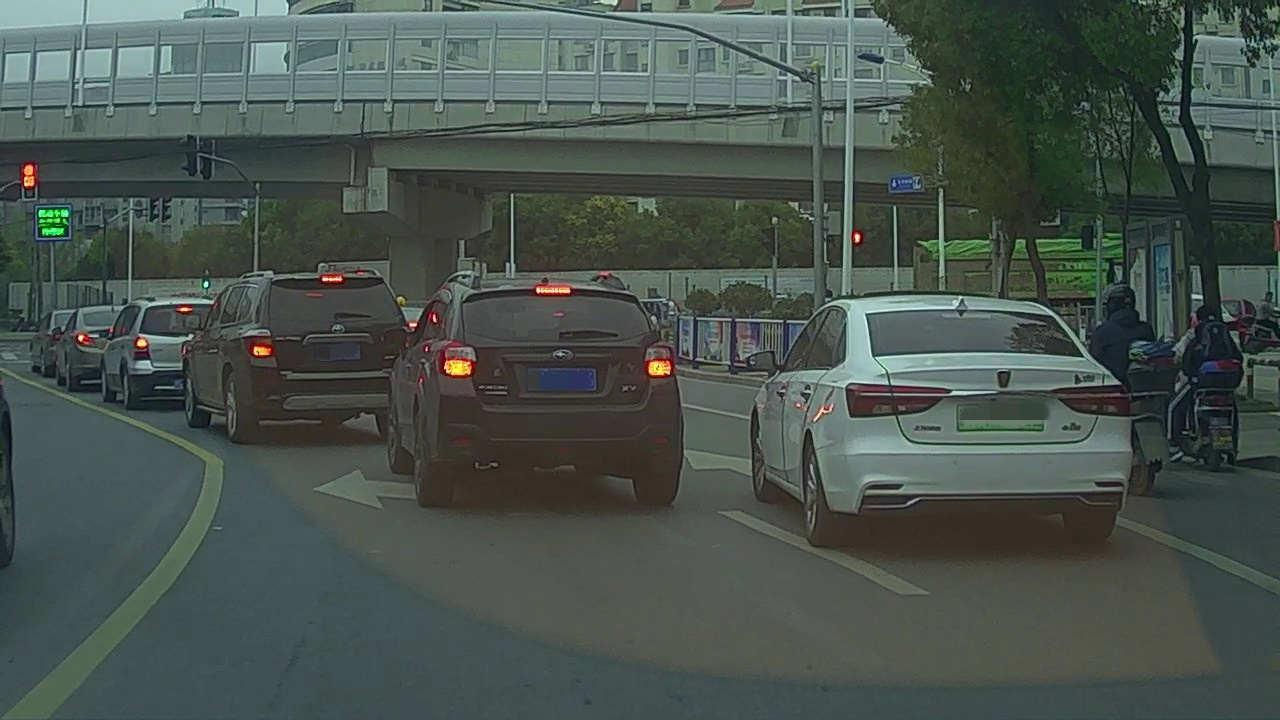traffic_light: (22, 164, 35, 199)
